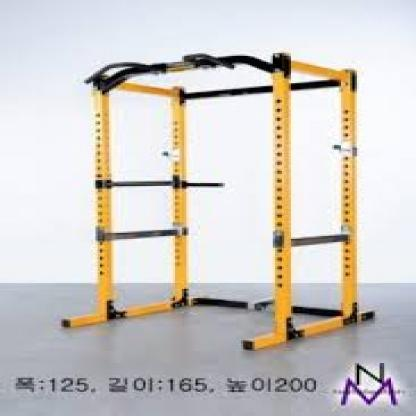smith machine: (60, 49, 376, 352)
